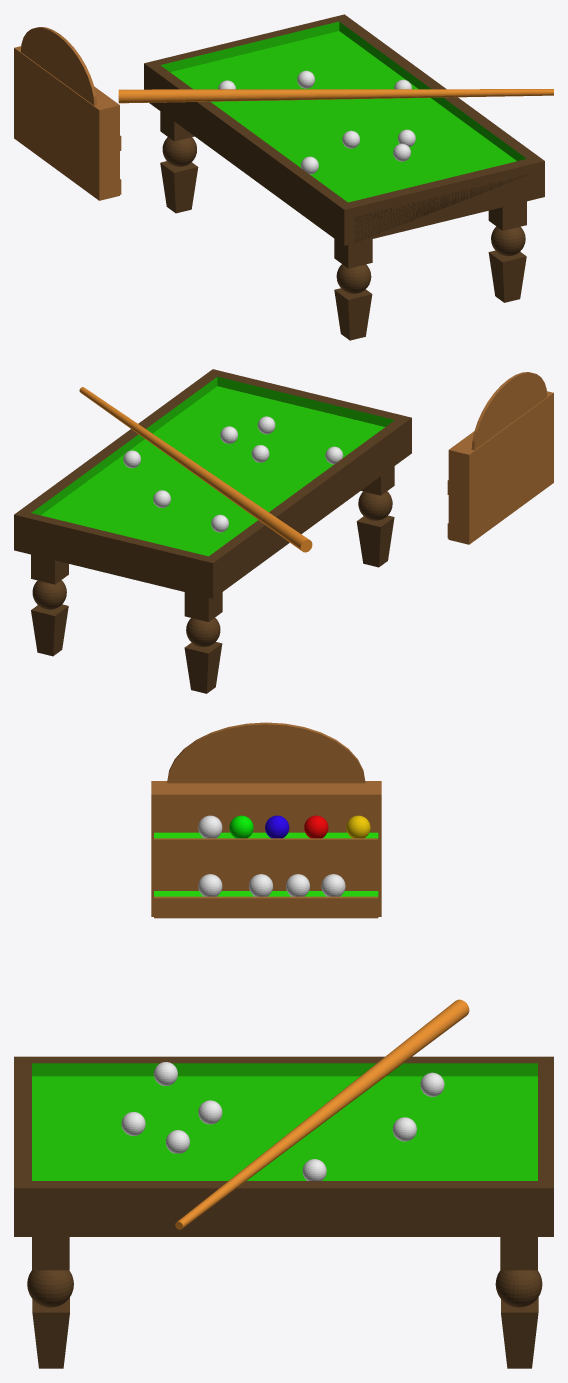
File: BilliardFurniture.fbx
The picture shows the model from 3 angles, top to bottom: view 1: azimuth 30°, elevation 25°; view 2: azimuth 150°, elevation 25°; view 3: azimuth 270°, elevation 25°; orthographic projection. The views are drawn at different scales.
Parts seen in each view (by area): view 1: Billiard, rack, cue, ball; view 2: Billiard, rack, cue, ball; view 3: Billiard, rack, ball, cue.
Boxes of the visible parts, x1=… form: Billiard: x1=144, y1=14, x2=544, y2=340; rack: x1=14, y1=27, x2=121, y2=200; cue: x1=118, y1=89, x2=553, y2=103; ball: x1=218, y1=70, x2=415, y2=174; Billiard: x1=14, y1=369, x2=411, y2=693; rack: x1=447, y1=372, x2=553, y2=544; cue: x1=79, y1=387, x2=312, y2=552; ball: x1=123, y1=416, x2=343, y2=532; Billiard: x1=14, y1=1056, x2=553, y2=1368; rack: x1=151, y1=722, x2=381, y2=918; ball: x1=121, y1=815, x2=444, y2=1180; cue: x1=175, y1=999, x2=469, y2=1229.
Bounding box in the file's own units: 647 × 391 × 482.
